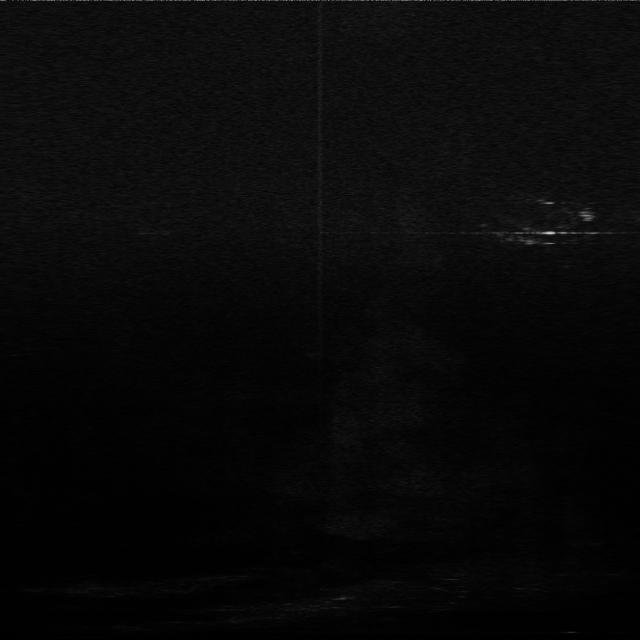rov: (574, 208, 598, 225)
